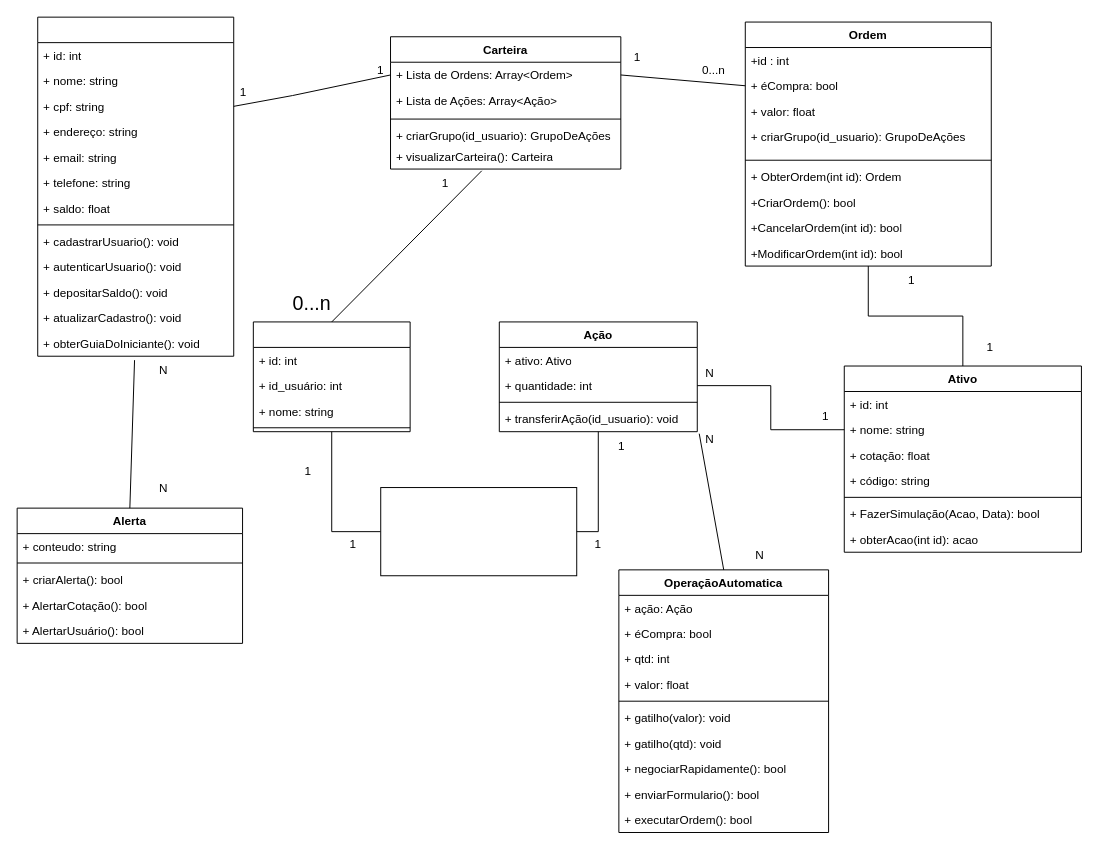
The diagram is 1099 pixels wide and 853 high, and some of its shapes have lost their labels. Each missing label, with the box of its shape:
GrupoDeAções: (252, 321, 410, 432)
RelaçãoGrupoAção + grupoAção: GrupoDeAções + Açaõ: Ação: (380, 487, 577, 576)
Usuário: (37, 16, 234, 356)
